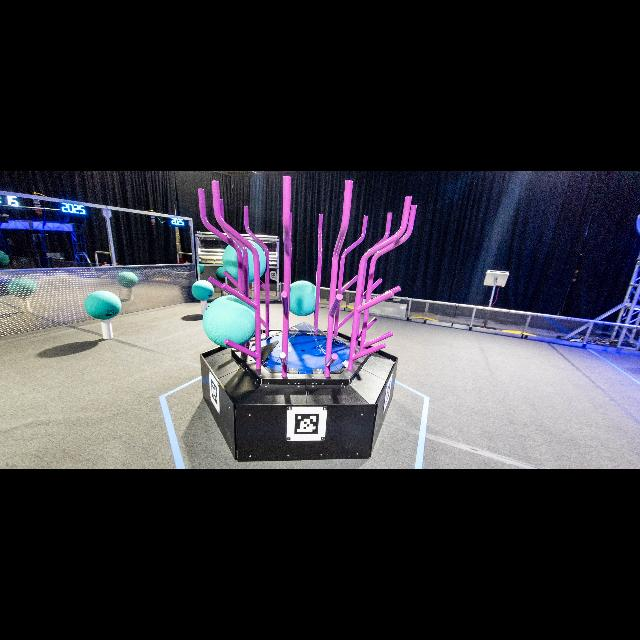ALGAE: (203, 296, 255, 348), (224, 240, 266, 284), (290, 282, 320, 316), (85, 291, 121, 319), (192, 280, 214, 300)
CORAL: (102, 318, 114, 340), (201, 302, 207, 316)
